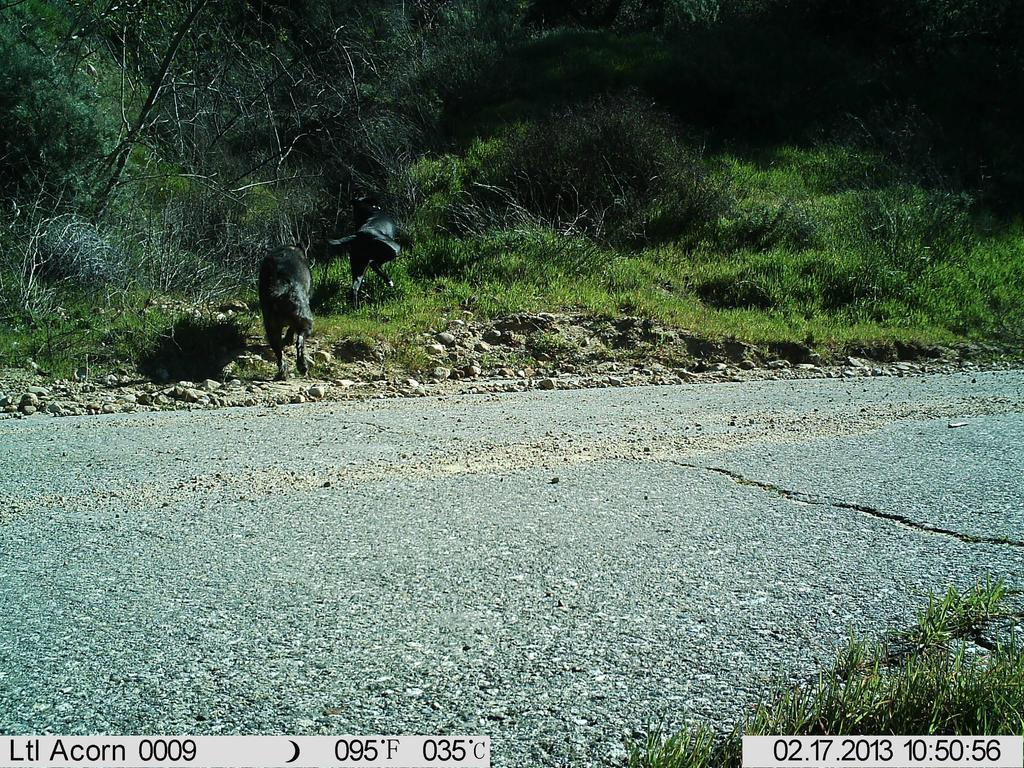dog: (326, 193, 409, 309), (257, 241, 319, 385)
